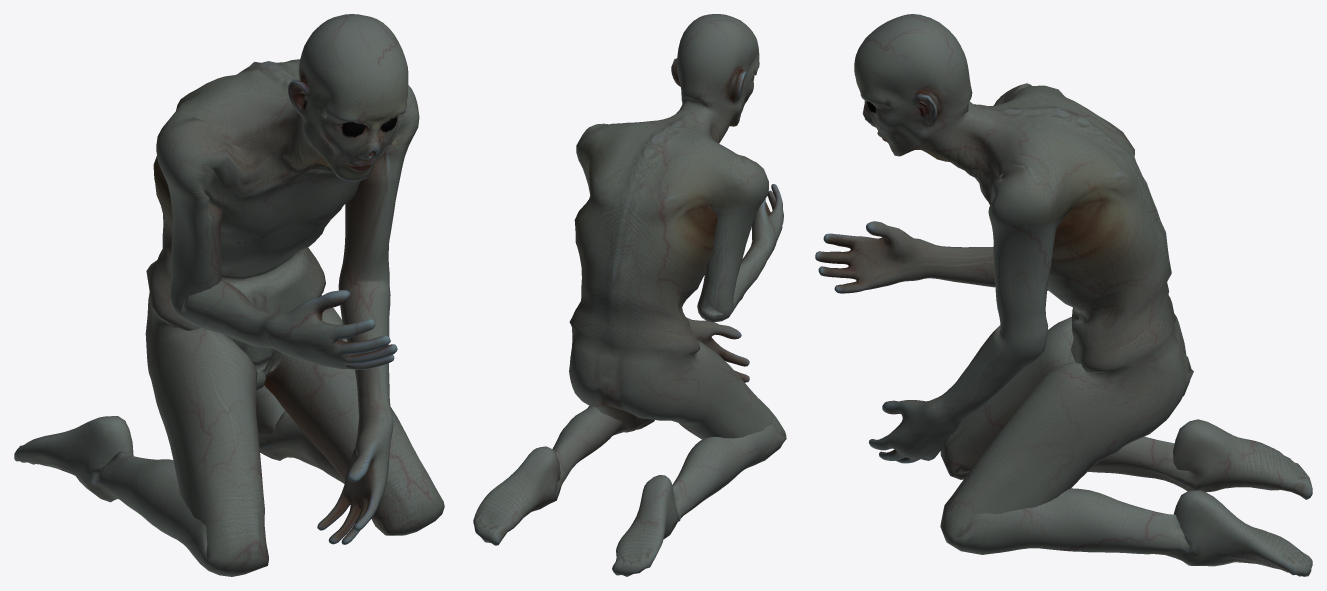
The model's file is watcher02.FBX.
3 renders of one model, left to right at view 1: azimuth 30°, elevation 25°; view 2: azimuth 150°, elevation 25°; view 3: azimuth 270°, elevation 25°, orthographic. The views are drawn at different scales.
Visible parts, largest first — view 1: watcher_low; view 2: watcher_low; view 3: watcher_low.
Part boxes in pixels (box(x1,y1,x2,y2)): watcher_low: box(14, 14, 444, 576); watcher_low: box(473, 14, 786, 576); watcher_low: box(815, 14, 1312, 576).
Bounding box in the file's own units: 45.54 × 102 × 89.17.
